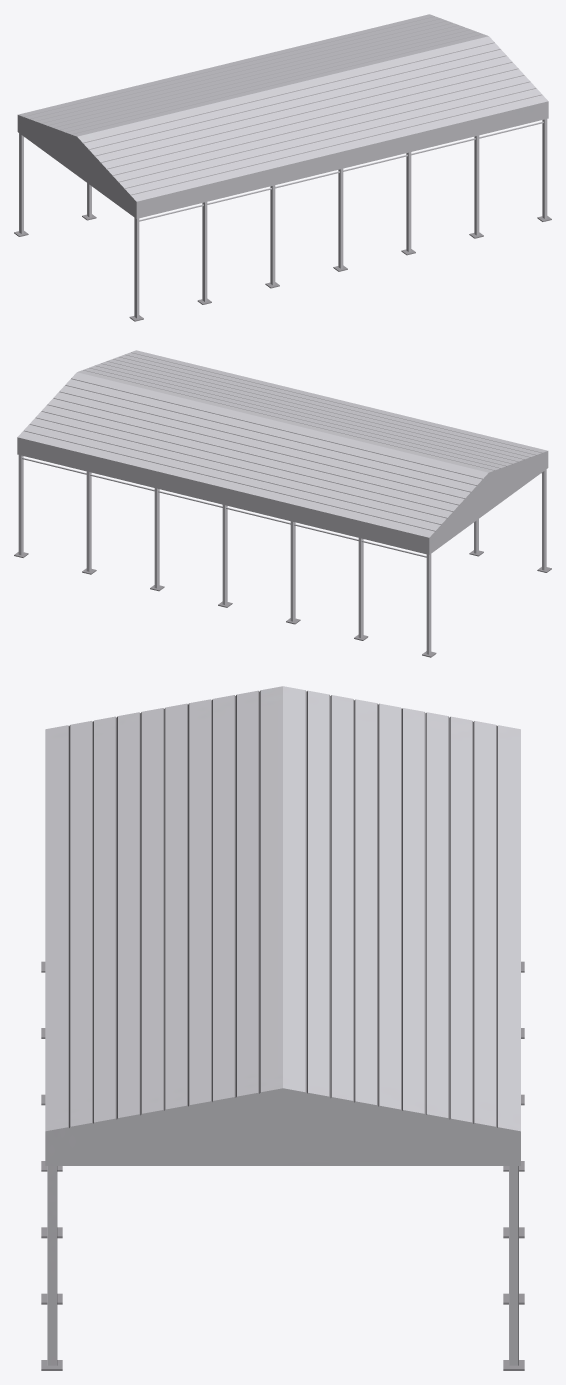
File: pengzi.fbx
The picture shows the model from 3 angles, top to bottom: view 1: azimuth 30°, elevation 25°; view 2: azimuth 150°, elevation 25°; view 3: azimuth 270°, elevation 25°; orthographic projection. The views are drawn at different scales.
Parts seen in each view (by area): view 1: Plane.036; view 2: Plane.036; view 3: Plane.036.
Part boxes in pixels (x1,y1,x2,y2): Plane.036: (14, 14, 551, 321); Plane.036: (14, 350, 551, 657); Plane.036: (41, 686, 524, 1370).
Size of the model in its own units: 36.18 by 11.61 by 18.16.
Materials: 1 (1 with a texture image).
